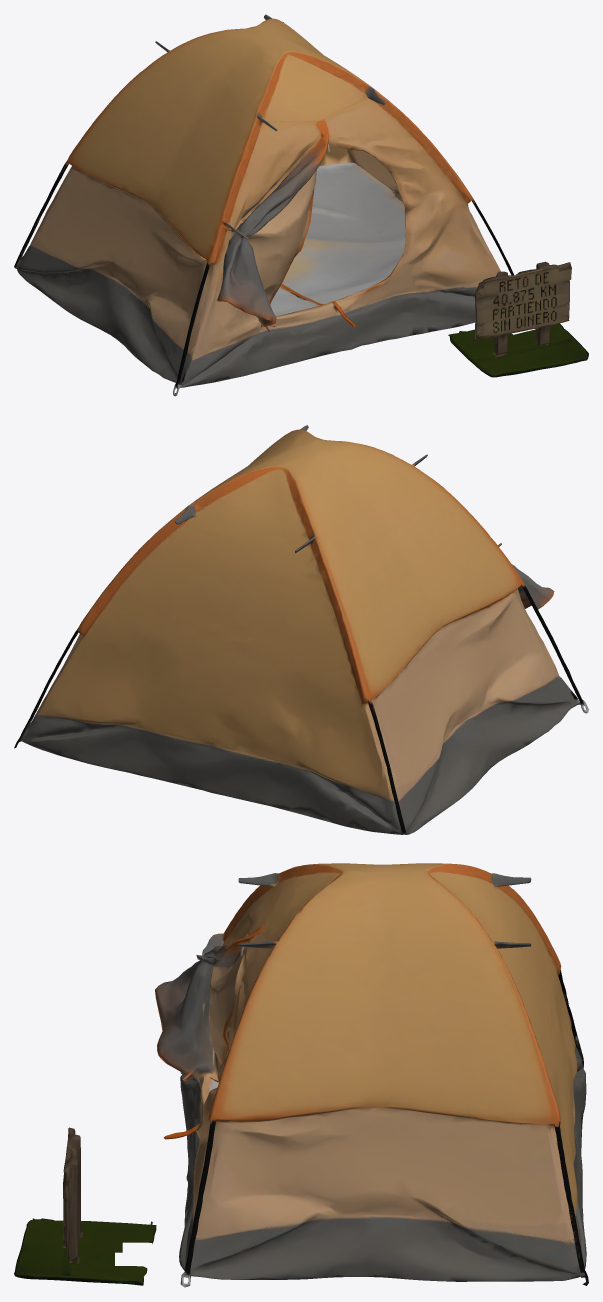
The model's file is camping-tent.glb.
3 views of the same model, one above another, from view 1: azimuth 30°, elevation 25°; view 2: azimuth 150°, elevation 25°; view 3: azimuth 270°, elevation 25° (orthographic). The views are drawn at different scales.
Visible parts, largest first — view 1: tripo_node_14ce445a-249b-4ca1-a74d-bbfeef9acec5; view 2: tripo_node_14ce445a-249b-4ca1-a74d-bbfeef9acec5; view 3: tripo_node_14ce445a-249b-4ca1-a74d-bbfeef9acec5.
Boxes of the visible parts, x1=… form: tripo_node_14ce445a-249b-4ca1-a74d-bbfeef9acec5: x1=14, y1=14, x2=588, y2=396; tripo_node_14ce445a-249b-4ca1-a74d-bbfeef9acec5: x1=14, y1=425, x2=588, y2=834; tripo_node_14ce445a-249b-4ca1-a74d-bbfeef9acec5: x1=14, y1=863, x2=588, y2=1287.
Size of the model in its own units: 0.8842 by 0.5974 by 1.
1 material, 1 textured.
